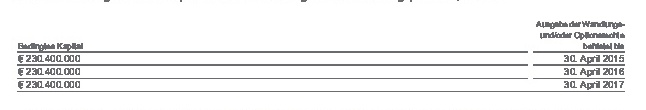table: (0, 0, 646, 110)
